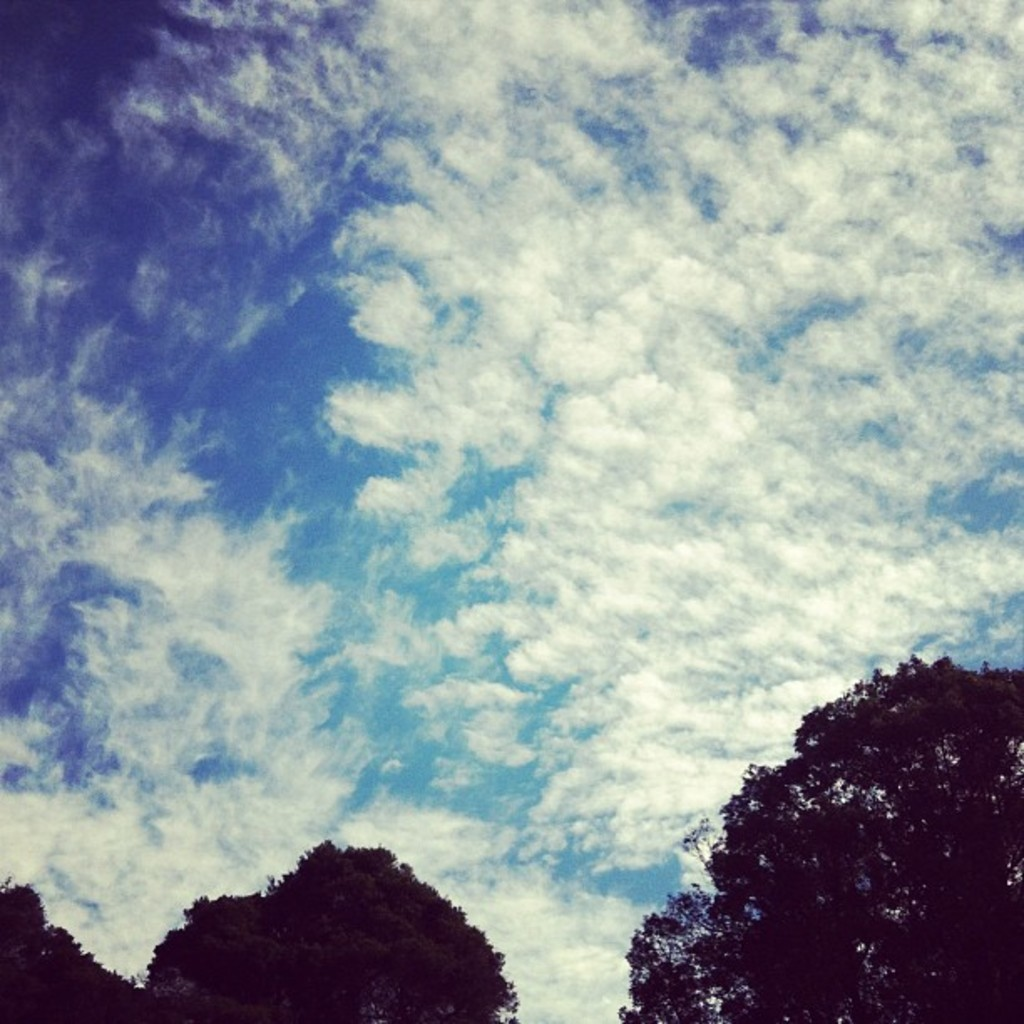Tree: (620, 652, 1022, 1022), (145, 838, 517, 1022), (0, 885, 138, 1022)
